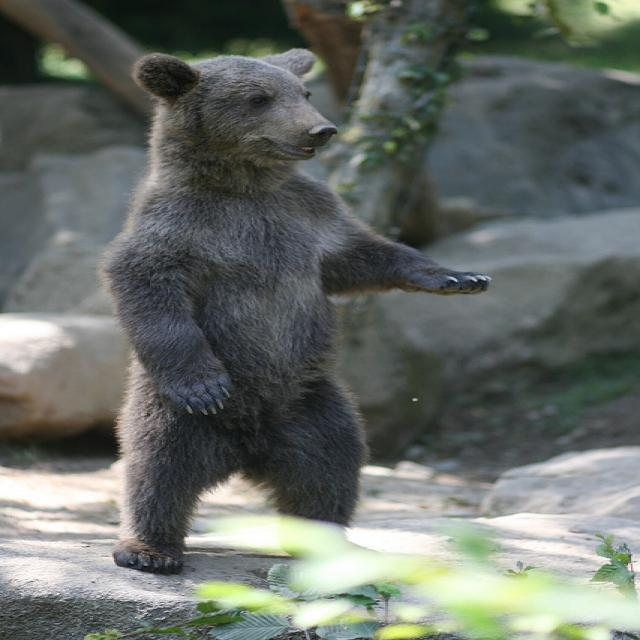Bear: (90, 38, 468, 578)
